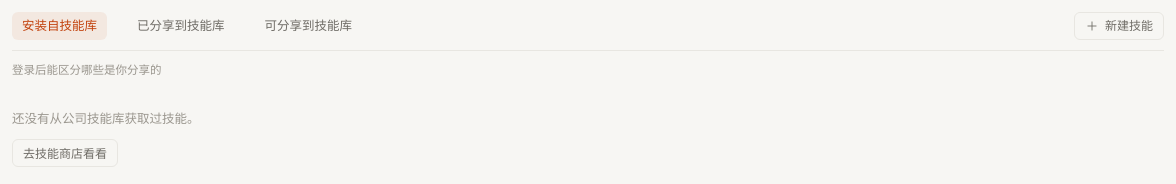
it: v7 任务 7:DoD 六条 › 🔴 终审 M-8:只有草稿(没有「安装自」的行)时,未登录提示不该贴在「可分享到」标题下
Click the tab "可分享到技能库": (308, 26) x1=264 y1=16 x2=352 y2=36
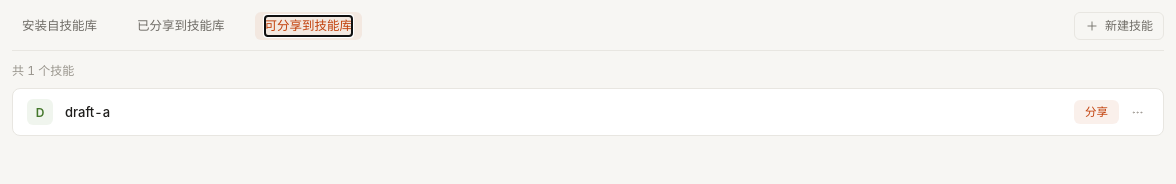
Check: the element with test id "row-draft-a" is shown, box x1=27 y1=99 x2=1149 y2=125
Check: the text "登录后能区分哪些是你分享的" is gone
